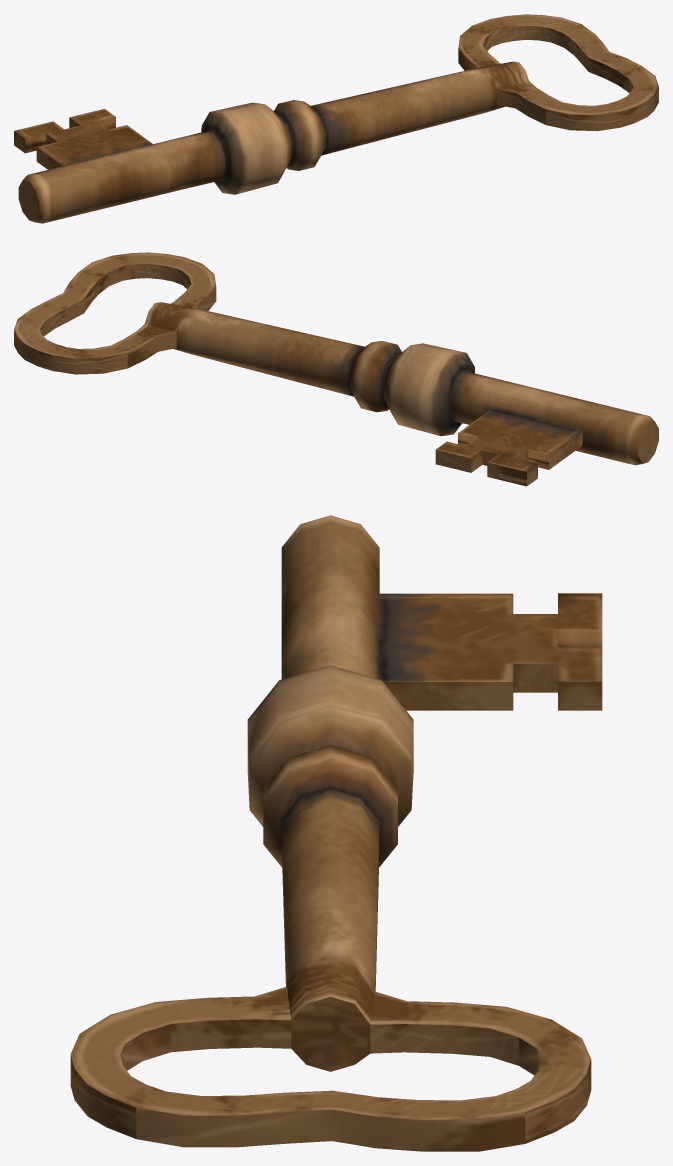
The model's file is Key_B_02.fbx.
3 renders of one model, top to bottom at view 1: azimuth 30°, elevation 25°; view 2: azimuth 150°, elevation 25°; view 3: azimuth 270°, elevation 25°, orthographic. The views are drawn at different scales.
Visible parts, largest first — view 1: Key_B; view 2: Key_B; view 3: Key_B.
Boxes of the visible parts, left/top/right/bottom form: Key_B: left=14, top=14, right=658, bottom=223; Key_B: left=14, top=252, right=658, bottom=486; Key_B: left=70, top=515, right=602, bottom=1151.
Bounding box in the file's own units: 23.28 × 2.99 × 9.09.
1 material, 1 textured.
